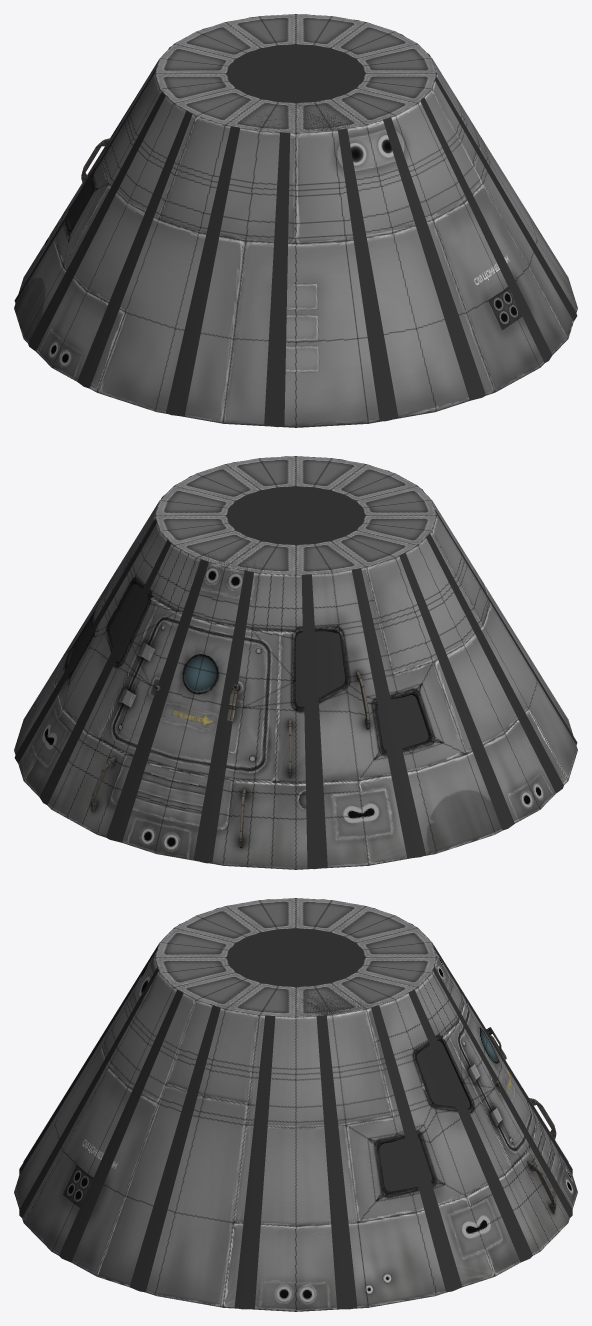
Rendered from Apollo_Block2_Capsule_Redux.dae.
3 views of the same model, one above another, from view 1: azimuth 30°, elevation 25°; view 2: azimuth 150°, elevation 25°; view 3: azimuth 270°, elevation 25° (orthographic).
Visible parts, largest first — view 1: polySurface164, pCylinder169; view 2: polySurface164, pCylinder169; view 3: polySurface164, pCylinder169.
Boxes of the visible parts, x1,y1,x2,y2 form: polySurface164: (14,14,577,427); pCylinder169: (14,14,577,427); polySurface164: (14,456,577,869); pCylinder169: (14,456,577,869); polySurface164: (14,898,577,1311); pCylinder169: (19,899,572,1309).
Bounding box in the file's own units: 2.5 × 1.16 × 2.5.
